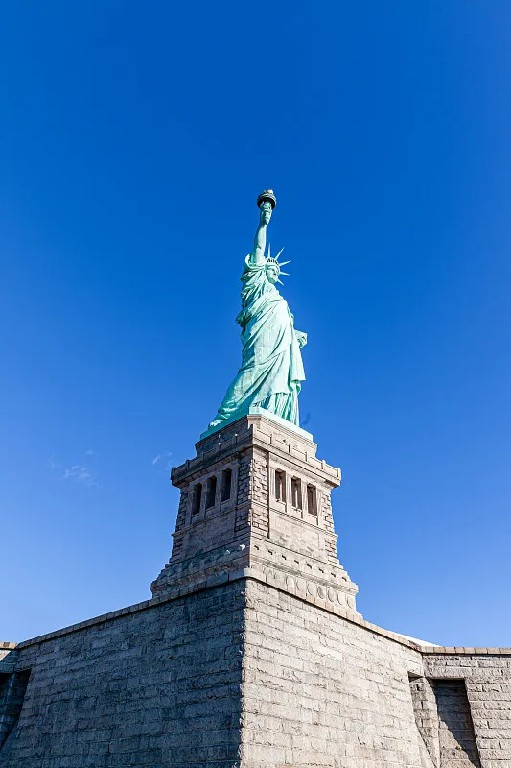SL: (150, 188, 364, 620)
